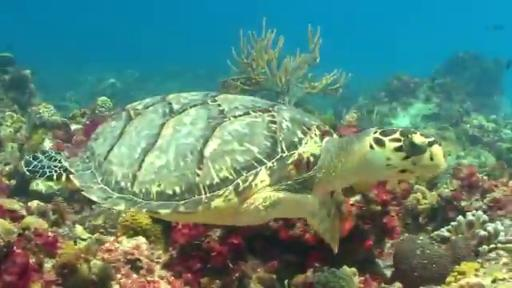Fish: (23, 92, 446, 250)
